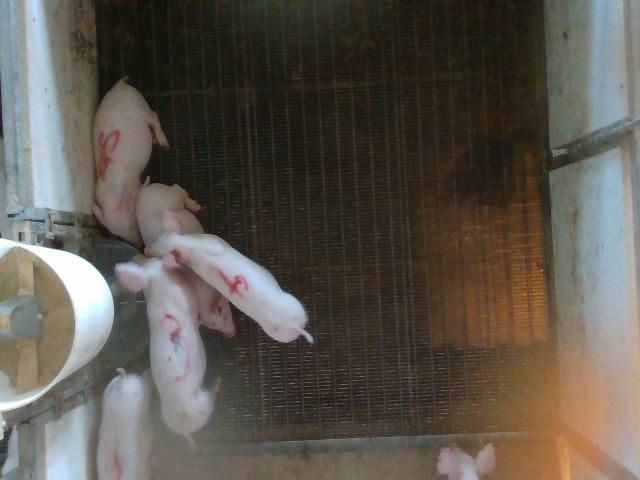pig-1: (98, 368, 152, 478)
pig-3: (115, 258, 214, 438)
pig-4: (146, 211, 312, 342)
pig-5: (92, 78, 169, 248)
